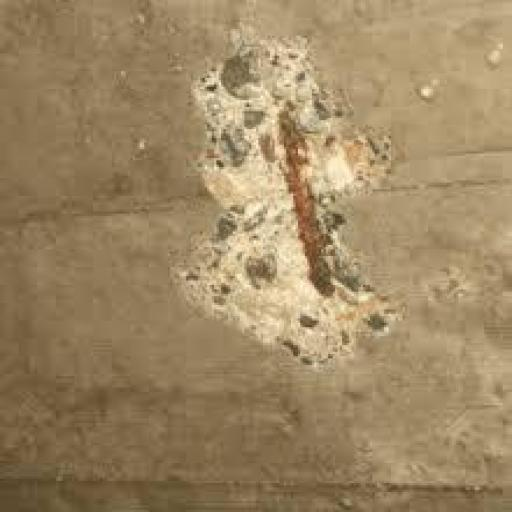spalling: (175, 40, 407, 368)
